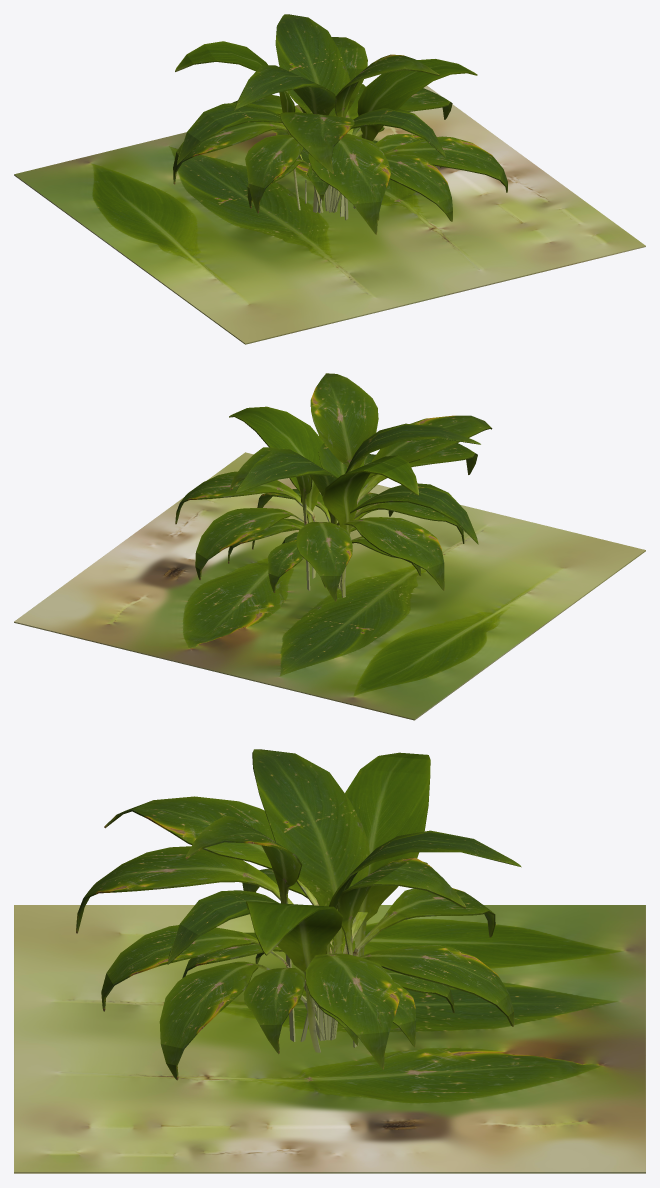
Rendered from test-plant-v3.gltf.
The picture shows the model from 3 angles, top to bottom: view 1: azimuth 30°, elevation 25°; view 2: azimuth 150°, elevation 25°; view 3: azimuth 270°, elevation 25°; orthographic projection. The views are drawn at different scales.
Visible parts, largest first — view 1: Ground, Leaf.020, Leaf.024, Leaf.023, Leaf, Leaf.015, Leaf.002, Leaf.019, Leaf.007, Leaf.021, Leaf.013, Leaf.001 (+5 smaller); view 2: Ground, Leaf.022, Leaf.012, Leaf.023, Leaf.013, Leaf.014, Leaf.017, Leaf.024, Leaf.019, Leaf.021, Leaf, Leaf.018 (+6 smaller); view 3: Ground, Leaf, Leaf.013, Leaf.018, Leaf.020, Leaf.015, Leaf.019, Leaf.023, Leaf.017, Leaf.007, Leaf.025, Leaf.022 (+7 smaller).
Boxes of the visible parts, bbox=[...] form: Ground: bbox=[14, 86, 645, 344]; Leaf.020: bbox=[308, 133, 391, 234]; Leaf.024: bbox=[275, 14, 350, 117]; Leaf.023: bbox=[353, 59, 477, 208]; Leaf: bbox=[234, 65, 335, 212]; Leaf.015: bbox=[333, 136, 507, 212]; Leaf.002: bbox=[245, 134, 303, 213]; Leaf.019: bbox=[280, 112, 354, 173]; Leaf.007: bbox=[329, 153, 452, 221]; Leaf.021: bbox=[177, 102, 321, 213]; Leaf.013: bbox=[175, 41, 300, 210]; Leaf.001: bbox=[313, 108, 445, 212]; Ground: bbox=[14, 452, 645, 720]; Leaf.022: bbox=[310, 373, 378, 471]; Leaf.012: bbox=[344, 517, 444, 590]; Leaf.023: bbox=[229, 406, 323, 578]; Leaf.013: bbox=[322, 455, 418, 597]; Leaf.014: bbox=[296, 522, 352, 601]; Leaf.017: bbox=[195, 508, 307, 580]; Leaf.024: bbox=[235, 449, 337, 523]; Leaf.019: bbox=[367, 415, 492, 478]; Leaf.021: bbox=[336, 483, 478, 589]; Leaf: bbox=[334, 423, 480, 591]; Leaf.018: bbox=[175, 471, 316, 524]; Ground: bbox=[14, 905, 645, 1173]; Leaf: bbox=[252, 749, 369, 1029]; Leaf.013: bbox=[345, 752, 430, 956]; Leaf.018: bbox=[305, 953, 399, 1069]; Leaf.020: bbox=[76, 846, 293, 933]; Leaf.015: bbox=[159, 961, 325, 1080]; Leaf.019: bbox=[104, 796, 319, 905]; Leaf.023: bbox=[246, 901, 342, 1052]; Leaf.017: bbox=[300, 945, 514, 1041]; Leaf.007: bbox=[101, 925, 324, 1035]; Leaf.025: bbox=[338, 857, 465, 1047]; Leaf.022: bbox=[185, 815, 302, 1041].
Size of the model in its own units: 0.7351 by 0.3286 by 0.7351.
1 material, 1 textured.
